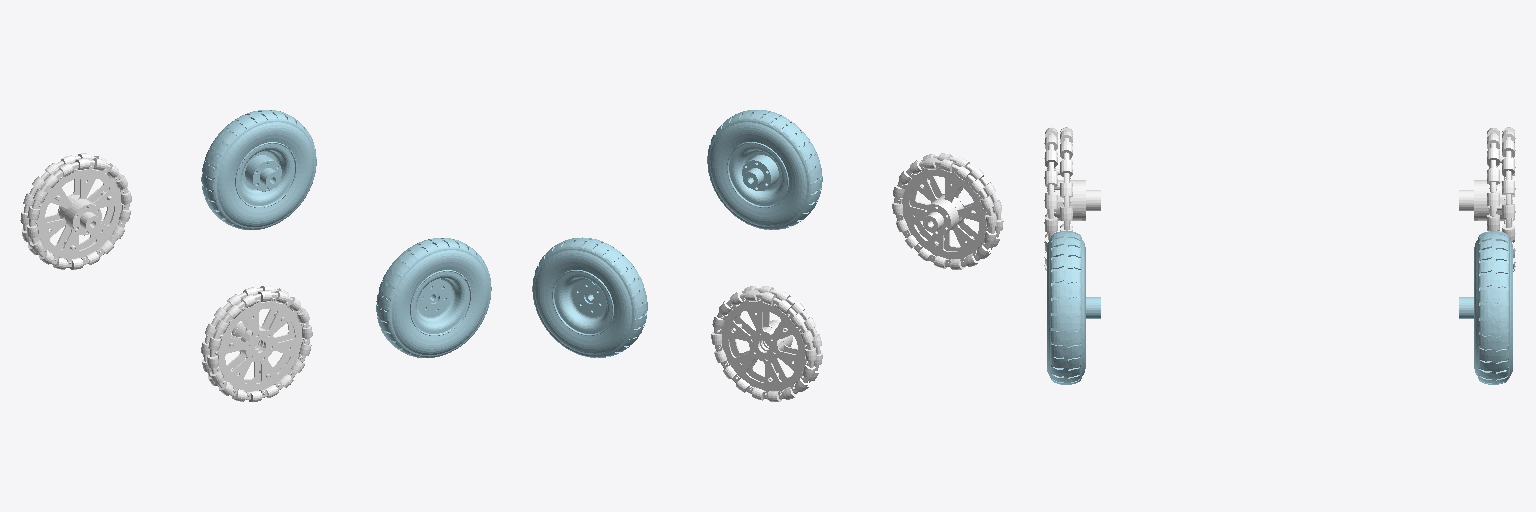
URDF robot description (four_wheel_diff_dl_robot):
<?xml version="1.0" encoding="utf-8"?>
<!-- This URDF was automatically created by SolidWorks to URDF Exporter! Originally created by [author] ([email redacted]) 
     Commit Version: 1.6.0-4-g7f85cfe  Build Version: 1.6.7995.38578
     For more information, please see http://wiki.ros.org/sw_urdf_exporter -->
<robot
  name="four_wheel_diff_dl_robot">
  <link
    name="base_link">
    <inertial>
      <origin
        xyz="0.0318457355753914 -0.00318231456734142 0.0771658331837553"
        rpy="0 0 0" />
      <mass
        value="5.79776460892104" />
      <inertia
        ixx="0.0481292435780642"
        ixy="-2.4203123053616E-05"
        ixz="-1.84274070905059E-05"
        iyy="0.049082492083211"
        iyz="-2.86896746900882E-06"
        izz="0.0909825416633626" />
    </inertial>
    <visual>
      <origin
        xyz="0 0 0"
        rpy="0 0 0" />
      <geometry>
        <mesh
          filename="package://wheeltec_robot_urdf/meshes/four_wheel_diff_dl_robot_meshes/base_link.STL" />
      </geometry>
      <material
        name="">
        <color
          rgba="0.741176470588235 0.901960784313726 0.956862745098039 1" />
      </material>
    </visual>
    <collision>
      <origin
        xyz="0 0 0"
        rpy="0 0 0" />
      <geometry>
        <mesh
          filename="package://wheeltec_robot_urdf/meshes/four_wheel_diff_dl_robot_meshes/base_link.STL" />
      </geometry>
    </collision>
  </link>
  <link
    name="lf_wheel_link">
    <inertial>
      <origin
        xyz="-1.81859304254628E-07 -0.00226980673596285 7.20735205350653E-07"
        rpy="0 0 0" />
      <mass
        value="0.59173319478051" />
      <inertia
        ixx="0.00187537173700357"
        ixy="1.48463879375619E-08"
        ixz="-5.9953347590458E-08"
        iyy="0.00345081841864374"
        iyz="-5.13834909176119E-08"
        izz="0.00187556225815756" />
    </inertial>
    <visual>
      <origin
        xyz="0 0 0"
        rpy="0 0 0" />
      <geometry>
        <mesh
          filename="package://wheeltec_robot_urdf/meshes/four_wheel_diff_dl_robot_meshes/lf_wheel_link.STL" />
      </geometry>
      <material
        name="">
        <color
          rgba="0.741176470588235 0.901960784313726 0.956862745098039 1" />
      </material>
    </visual>
    <collision>
      <origin
        xyz="0 0 0"
        rpy="0 0 0" />
      <geometry>
        <mesh
          filename="package://wheeltec_robot_urdf/meshes/four_wheel_diff_dl_robot_meshes/lf_wheel_link.STL" />
      </geometry>
    </collision>
  </link>
  <joint
    name="lf_wheel_joint"
    type="continuous">
    <origin
      xyz="0.174358547464883 0.295582641802973 0.0364909999999989"
      rpy="0 0 0" />
    <parent
      link="base_link" />
    <child
      link="lf_wheel_link" />
    <axis
      xyz="0 1 0" />
  </joint>
  <link
    name="lb_wheel_link">
    <inertial>
      <origin
        xyz="-4.36645918699963E-07 -0.00504700490176194 -6.46755826672063E-09"
        rpy="0 0 0" />
      <mass
        value="0.420612332565552" />
      <inertia
        ixx="0.00119912339307498"
        ixy="-1.39093157978753E-10"
        ixz="-1.42791089130004E-10"
        iyy="0.00231233093777319"
        iyz="-8.94581194667738E-11"
        izz="0.0011991234972276" />
    </inertial>
    <visual>
      <origin
        xyz="0 0 0"
        rpy="0 0 0" />
      <geometry>
        <mesh
          filename="package://wheeltec_robot_urdf/meshes/four_wheel_diff_dl_robot_meshes/lb_wheel_link.STL" />
      </geometry>
      <material
        name="">
        <color
          rgba="1 1 1 1" />
      </material>
    </visual>
    <collision>
      <origin
        xyz="0 0 0"
        rpy="0 0 0" />
      <geometry>
        <mesh
          filename="package://wheeltec_robot_urdf/meshes/four_wheel_diff_dl_robot_meshes/lb_wheel_link.STL" />
      </geometry>
    </collision>
  </link>
  <joint
    name="lb_wheel_joint"
    type="continuous">
    <origin
      xyz="-0.177660452535117 0.306129641802972 0.0364999999999989"
      rpy="0 0 0" />
    <parent
      link="base_link" />
    <child
      link="lb_wheel_link" />
    <axis
      xyz="0 1 0" />
  </joint>
  <link
    name="rb_wheel_link">
    <inertial>
      <origin
        xyz="-4.17603560343149E-07 0.00504700490174181 -6.46755667077503E-09"
        rpy="0 0 0" />
      <mass
        value="0.420612332565537" />
      <inertia
        ixx="0.00119912339307497"
        ixy="-1.39093160955768E-10"
        ixz="1.42791100969105E-10"
        iyy="0.00231233093777312"
        iyz="8.9458115527756E-11"
        izz="0.00119912349722754" />
    </inertial>
    <visual>
      <origin
        xyz="0 0 0"
        rpy="0 0 0" />
      <geometry>
        <mesh
          filename="package://wheeltec_robot_urdf/meshes/four_wheel_diff_dl_robot_meshes/rb_wheel_link.STL" />
      </geometry>
      <material
        name="">
        <color
          rgba="1 1 1 1" />
      </material>
    </visual>
    <collision>
      <origin
        xyz="0 0 0"
        rpy="0 0 0" />
      <geometry>
        <mesh
          filename="package://wheeltec_robot_urdf/meshes/four_wheel_diff_dl_robot_meshes/rb_wheel_link.STL" />
      </geometry>
    </collision>
  </link>
  <joint
    name="rb_wheel_joint"
    type="continuous">
    <origin
      xyz="-0.177660452535115 -0.306094358197028 0.036500000000001"
      rpy="0 0 0" />
    <parent
      link="base_link" />
    <child
      link="rb_wheel_link" />
    <axis
      xyz="0 -1 0" />
  </joint>
  <link
    name="rf_wheel_link">
    <inertial>
      <origin
        xyz="3.61087833106177E-08 0.00226980673594079 7.20735208598056E-07"
        rpy="0 0 0" />
      <mass
        value="0.591733194780427" />
      <inertia
        ixx="0.00187537173700363"
        ixy="1.48463879446997E-08"
        ixz="5.99533475930548E-08"
        iyy="0.00345081841864383"
        iyz="5.13834909056724E-08"
        izz="0.00187556225815758" />
    </inertial>
    <visual>
      <origin
        xyz="0 0 0"
        rpy="0 0 0" />
      <geometry>
        <mesh
          filename="package://wheeltec_robot_urdf/meshes/four_wheel_diff_dl_robot_meshes/rf_wheel_link.STL" />
      </geometry>
      <material
        name="">
        <color
          rgba="0.741176470588235 0.901960784313726 0.956862745098039 1" />
      </material>
    </visual>
    <collision>
      <origin
        xyz="0 0 0"
        rpy="0 0 0" />
      <geometry>
        <mesh
          filename="package://wheeltec_robot_urdf/meshes/four_wheel_diff_dl_robot_meshes/rf_wheel_link.STL" />
      </geometry>
    </collision>
  </link>
  <joint
    name="rf_wheel_joint"
    type="continuous">
    <origin
      xyz="0.174353547464885 -0.295547358197027 0.036491000000001"
      rpy="0 0 0" />
    <parent
      link="base_link" />
    <child
      link="rf_wheel_link" />
    <axis
      xyz="0 -1 0" />
  </joint>
  <link
    name="camera_link">
    <inertial>
      <origin
        xyz="-1.49472333864364E-07 1.57376157022826E-07 1.07509871657974E-07"
        rpy="0 0 0" />
      <mass
        value="0.0559842529202529" />
      <inertia
        ixx="0.000130802200744606"
        ixy="-9.96617453030928E-07"
        ixz="1.6229934269714E-06"
        iyy="1.91236262729695E-05"
        iyz="-4.42334063852426E-08"
        izz="0.000131387473459401" />
    </inertial>
    <visual>
      <origin
        xyz="0 0 0"
        rpy="0 0 0" />
      <geometry>
        <mesh
          filename="package://wheeltec_robot_urdf/meshes/four_wheel_diff_dl_robot_meshes/camera_link.STL" />
      </geometry>
      <material
        name="">
        <color
          rgba="1 1 1 1" />
      </material>
    </visual>
    <collision>
      <origin
        xyz="0 0 0"
        rpy="0 0 0" />
      <geometry>
        <mesh
          filename="package://wheeltec_robot_urdf/meshes/four_wheel_diff_dl_robot_meshes/camera_link.STL" />
      </geometry>
    </collision>
  </link>
  <joint
    name="camera_joint"
    type="fixed">
    <origin
      xyz="0.290141547464884 0.000240641802974284 0.212204"
      rpy="0 0 0" />
    <parent
      link="base_link" />
    <child
      link="camera_link" />
    <axis
      xyz="0 0 0" />
  </joint>
  <link
    name="laser_link">
    <inertial>
      <origin
        xyz="-0.00207956288634146 -9.87028646426413E-07 -0.0264468164421749"
        rpy="0 0 0" />
      <mass
        value="0.0042636860602628" />
      <inertia
        ixx="1.45373992961578E-06"
        ixy="2.48436940401418E-14"
        ixz="-8.86181044864521E-08"
        iyy="1.17647720289552E-06"
        iyz="-2.28919823653199E-15"
        izz="2.03836666874872E-06" />
    </inertial>
    <visual>
      <origin
        xyz="0 0 0"
        rpy="0 0 0" />
      <geometry>
        <mesh
          filename="package://wheeltec_robot_urdf/meshes/four_wheel_diff_dl_robot_meshes/laser.STL" />
      </geometry>
      <material
        name="">
        <color
          rgba="0.376470588235294 0.376470588235294 0.376470588235294 1" />
      </material>
    </visual>
    <collision>
      <origin
        xyz="0 0 0"
        rpy="0 0 0" />
      <geometry>
        <mesh
          filename="package://wheeltec_robot_urdf/meshes/four_wheel_diff_dl_robot_meshes/laser.STL" />
      </geometry>
    </collision>
  </link>
  <joint
    name="laser_joint"
    type="fixed">
    <origin
      xyz="0.238346547464884 1.66418029743376E-05 0.284664"
      rpy="0 0 -3.14159265358979" />
    <parent
      link="base_link" />
    <child
      link="laser_link" />
    <axis
      xyz="0 0 0" />
  </joint>
  <link
    name="controller_link">
    <inertial>
      <origin
        xyz="-0.0497103400790867 0.0175133935293348 0.00856001460559357"
        rpy="0 0 0" />
      <mass
        value="0.00107921953110441" />
      <inertia
        ixx="1.16330109775188E-08"
        ixy="-3.94092668869786E-09"
        ixz="3.69212784612797E-10"
        iyy="2.26830020206362E-07"
        iyz="5.23015130069641E-10"
        izz="2.25657042461949E-07" />
    </inertial>
    <visual>
      <origin
        xyz="0 0 0"
        rpy="0 0 0" />
      <geometry>
        <mesh
          filename="package://wheeltec_robot_urdf/meshes/four_wheel_diff_dl_robot_meshes/controller_link.STL" />
      </geometry>
      <material
        name="">
        <color
          rgba="0.741176470588235 0.901960784313726 0.956862745098039 1" />
      </material>
    </visual>
    <collision>
      <origin
        xyz="0 0 0"
        rpy="0 0 0" />
      <geometry>
        <mesh
          filename="package://wheeltec_robot_urdf/meshes/four_wheel_diff_dl_robot_meshes/controller_link.STL" />
      </geometry>
    </collision>
  </link>
  <joint
    name="controller_joint"
    type="fixed">
    <origin
      xyz="0.101379911991688 0.0620176418028517 0.00150000000000053"
      rpy="0 0 0" />
    <parent
      link="base_link" />
    <child
      link="controller_link" />
    <axis
      xyz="0 0 0" />
  </joint>
</robot>

--- What the picture shows (computed from the rendered views, not written in the file) ---
Views: 3 orthographic renders of the robot side by side, from view 1: azimuth 30°, elevation 25°; view 2: azimuth 150°, elevation 25°; view 3: azimuth 270°, elevation 25°.
Model four_wheel_diff_dl_robot with 8 links and 7 joints (4 continuous, 3 fixed), rooted at base_link, posed every joint at zero.
Visible links, largest first — view 1: lf_wheel_link, rf_wheel_link, rb_wheel_link, lb_wheel_link; view 2: lf_wheel_link, rf_wheel_link, rb_wheel_link, lb_wheel_link; view 3: rf_wheel_link, lf_wheel_link, lb_wheel_link, rb_wheel_link.
Boxes of the visible links, x1,y1,x2,y2 form: lf_wheel_link: (201,110,316,229); rf_wheel_link: (376,238,491,357); rb_wheel_link: (201,286,312,401); lb_wheel_link: (20,153,131,269); lf_wheel_link: (532,237,647,357); rf_wheel_link: (707,110,822,229); rb_wheel_link: (892,153,1003,269); lb_wheel_link: (711,286,822,401); rf_wheel_link: (1047,231,1100,384); lf_wheel_link: (1459,231,1512,384); lb_wheel_link: (1459,127,1515,271); rb_wheel_link: (1044,127,1100,270).
Bounding box of the posed robot: 0.56 × 0.6523 × 0.2128 m (x, y, z).
Meshes: 8 distinct files referenced, 4 mesh visuals loaded (4 binary STL); not drawn: 4 (reference not matched to a file when rendering).